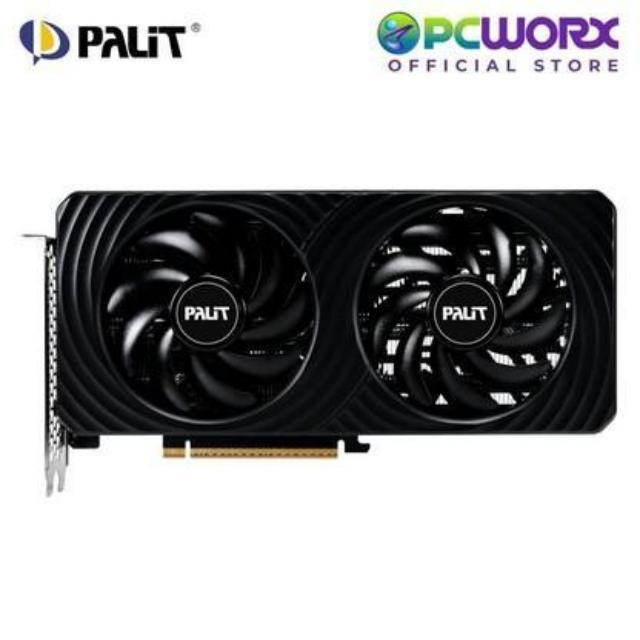GPU: (41, 178, 622, 464)
